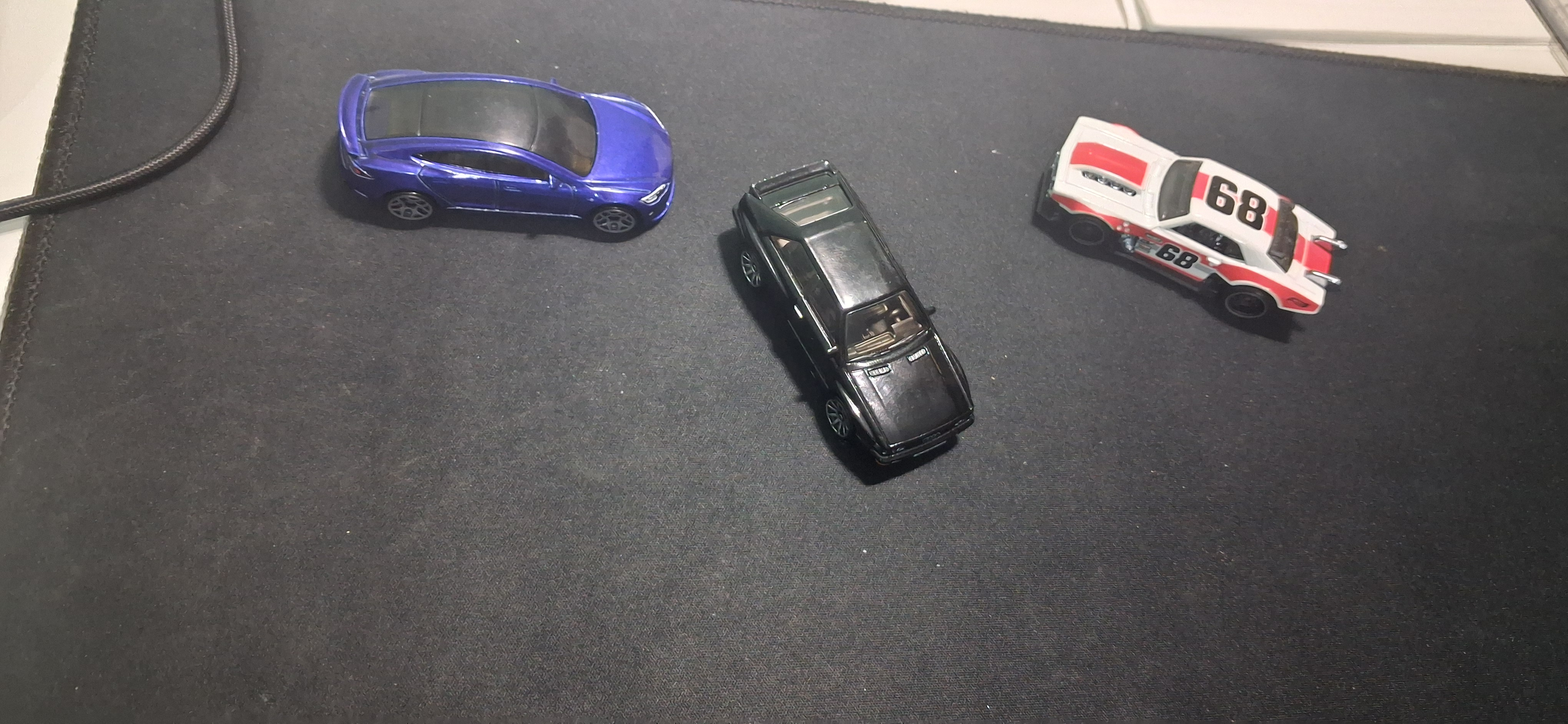Audi_Quattro: (716, 122, 969, 565)
Camaro: (998, 95, 1403, 349)
Tesla_Model_S_Plaid: (268, 74, 692, 245)
